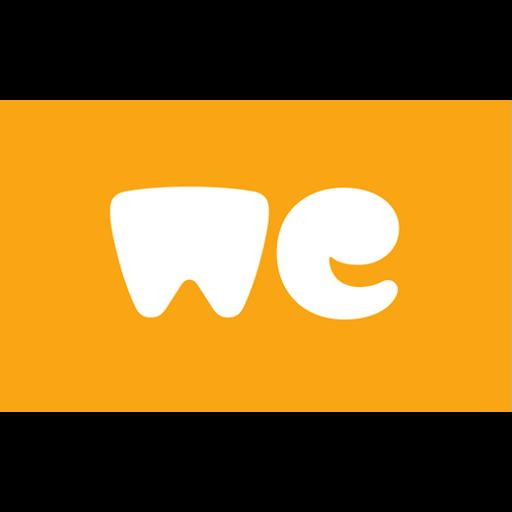WeTransfer: (0, 100, 512, 412)
